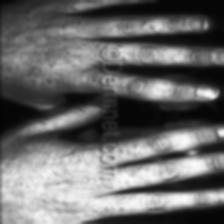Toxin: (15, 0, 85, 96), (12, 152, 90, 224), (119, 138, 153, 188), (88, 18, 136, 38), (97, 199, 131, 218)
